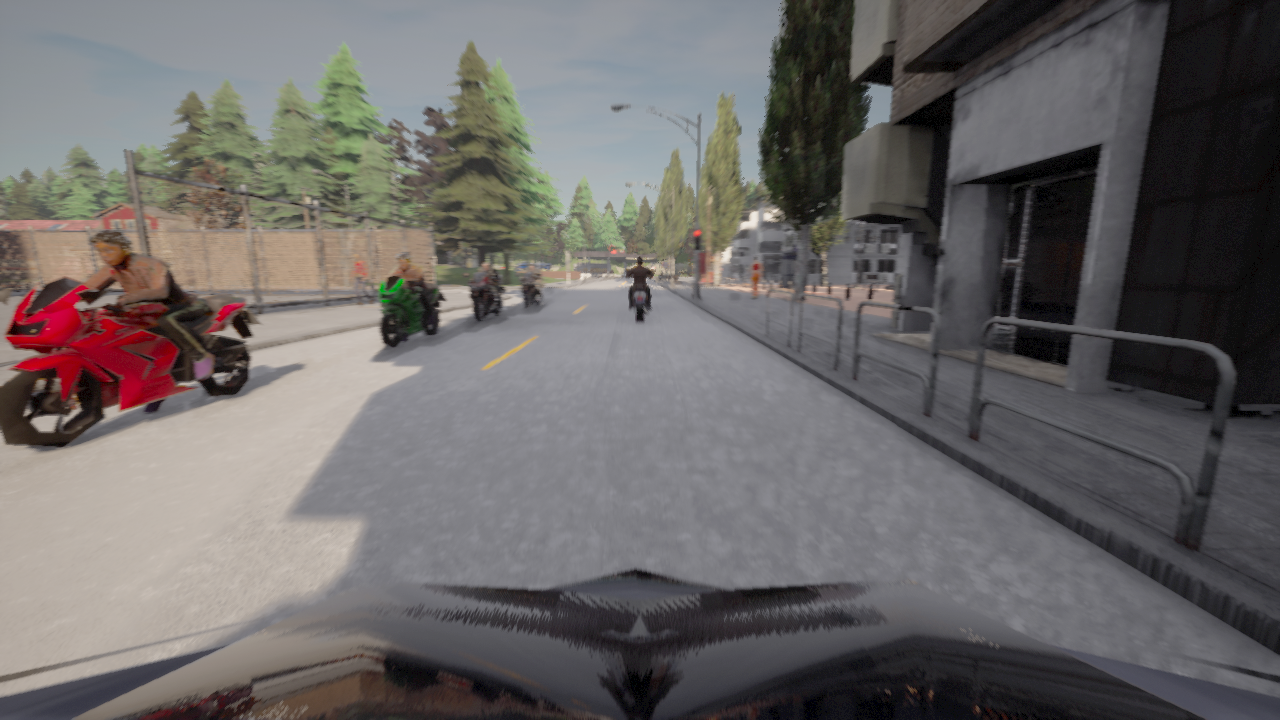cyclist: (0, 569, 1279, 719), (0, 277, 262, 447), (365, 275, 445, 348), (463, 272, 505, 321), (626, 270, 650, 321), (516, 272, 544, 308), (602, 273, 604, 274)
pedestrian: (350, 252, 372, 305), (747, 256, 761, 298)
